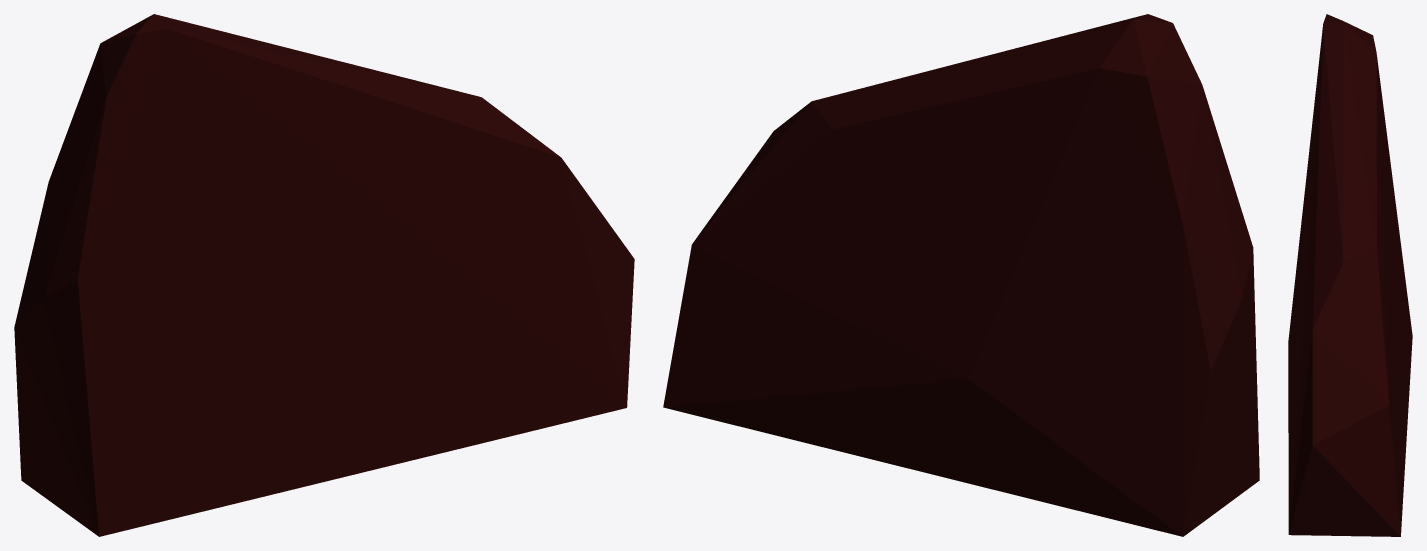
Rendered from UCX_Castle_Wall_D_ALT.fbx.
The picture shows the model from 3 angles, left to right: view 1: azimuth 30°, elevation 25°; view 2: azimuth 150°, elevation 25°; view 3: azimuth 270°, elevation 25°; orthographic projection. The views are drawn at different scales.
Visible parts, largest first — view 1: UCX_Castle_Wall_D_ALT; view 2: UCX_Castle_Wall_D_ALT; view 3: UCX_Castle_Wall_D_ALT.
Part boxes in pixels (x1=…): UCX_Castle_Wall_D_ALT: x1=14, y1=14, x2=634, y2=536; UCX_Castle_Wall_D_ALT: x1=663, y1=14, x2=1259, y2=536; UCX_Castle_Wall_D_ALT: x1=1288, y1=14, x2=1412, y2=536.
Bounding box in the file's own units: 1061 × 843 × 268.
